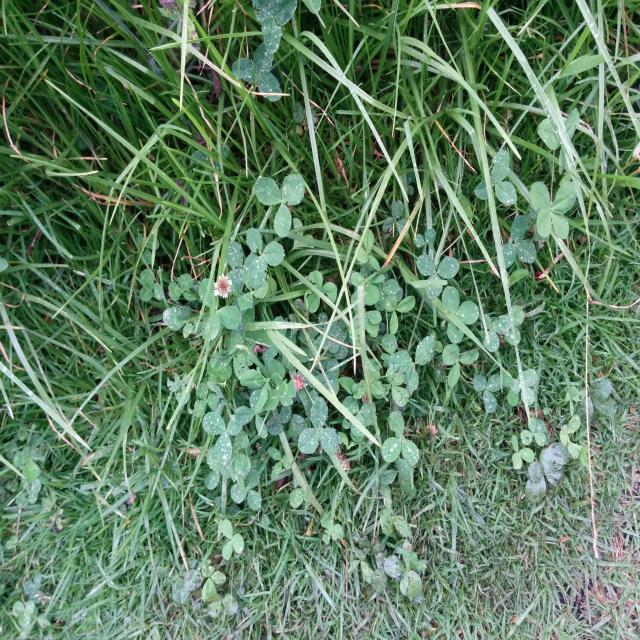Four Leaf Clover: (530, 181, 577, 239)
